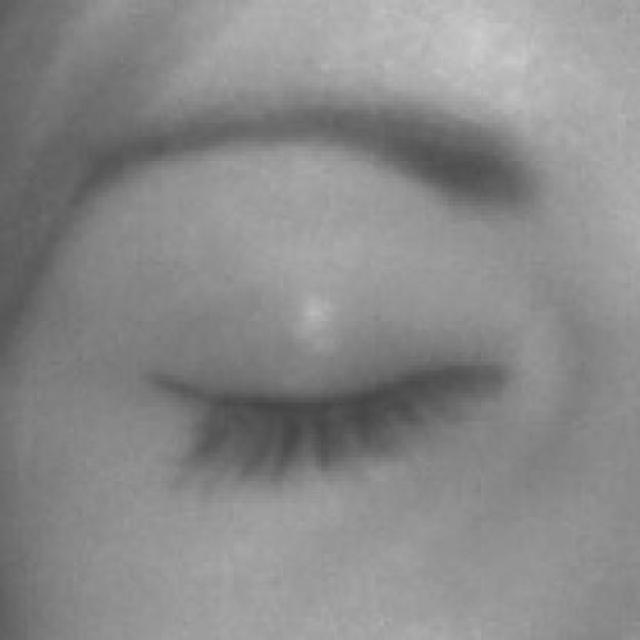drowsy: (152, 222, 512, 592)
